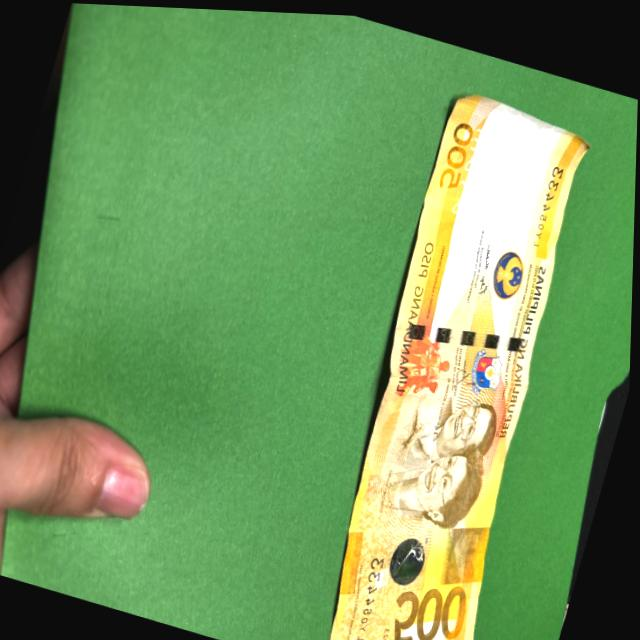concealed_value: (445, 515, 493, 595)
security_thread: (390, 290, 537, 381)
see_through_mark: (448, 110, 493, 219)
serial_number: (522, 139, 583, 261), (352, 539, 390, 640)
value: (386, 561, 477, 640)
value_watermark: (481, 122, 518, 160)
watermark: (456, 110, 563, 240)
